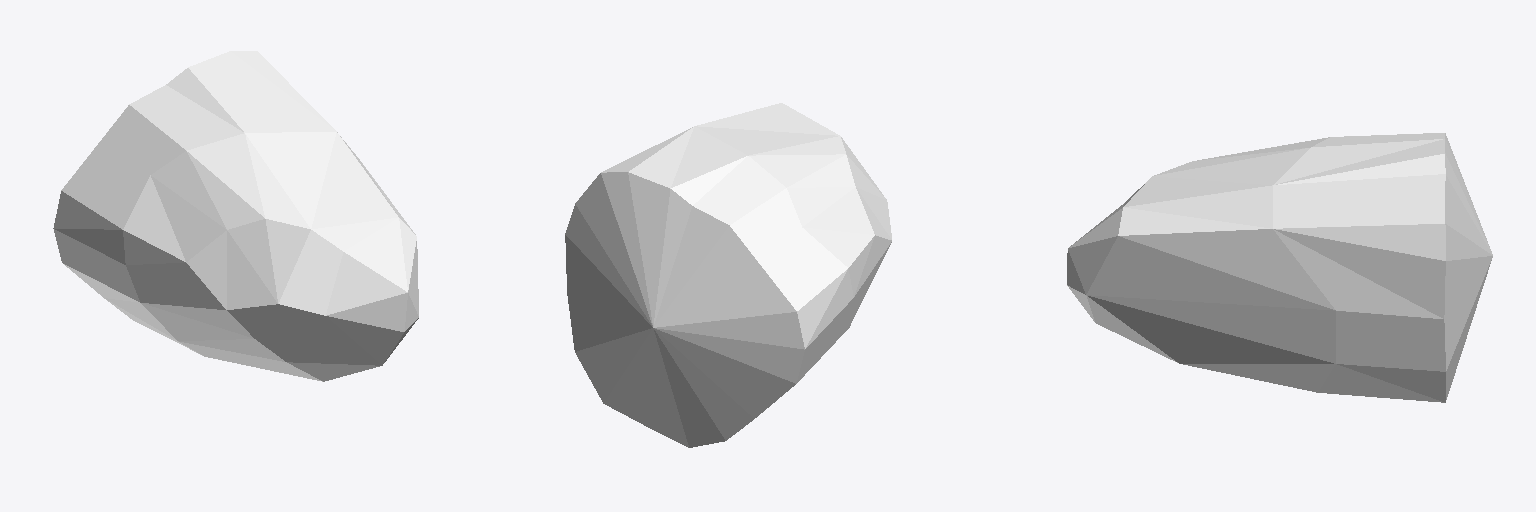
The model's file is rock8.obj.
3 renders of one model, left to right at view 1: azimuth 30°, elevation 25°; view 2: azimuth 150°, elevation 25°; view 3: azimuth 270°, elevation 25°, orthographic.
Visible parts, largest first — view 1: 0_0; view 2: 0_0; view 3: 0_0.
Part boxes in pixels (left/top/right/bottom): 0_0: left=53, top=51, right=418, bottom=381; 0_0: left=565, top=103, right=891, bottom=447; 0_0: left=1067, top=133, right=1492, bottom=402.
Size of the model in its own units: 3.32 by 3.45 by 5.11.